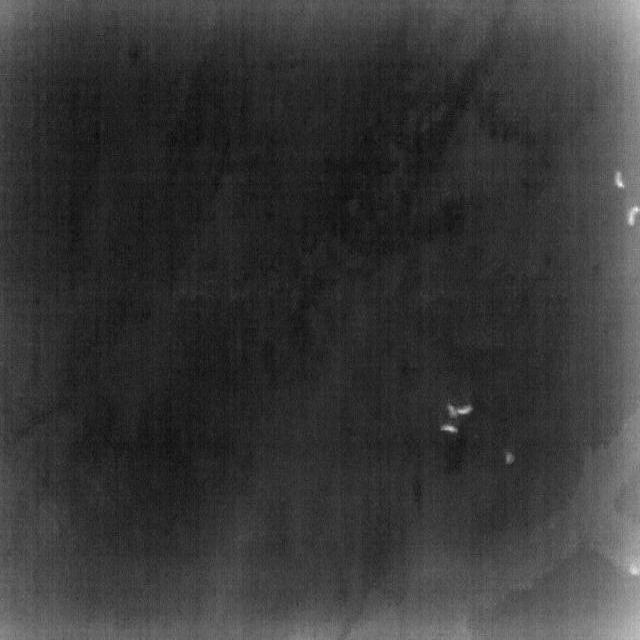deer: (627, 205, 640, 227), (614, 171, 626, 190), (456, 404, 474, 416), (440, 424, 459, 433), (447, 403, 457, 419), (504, 452, 514, 464)
